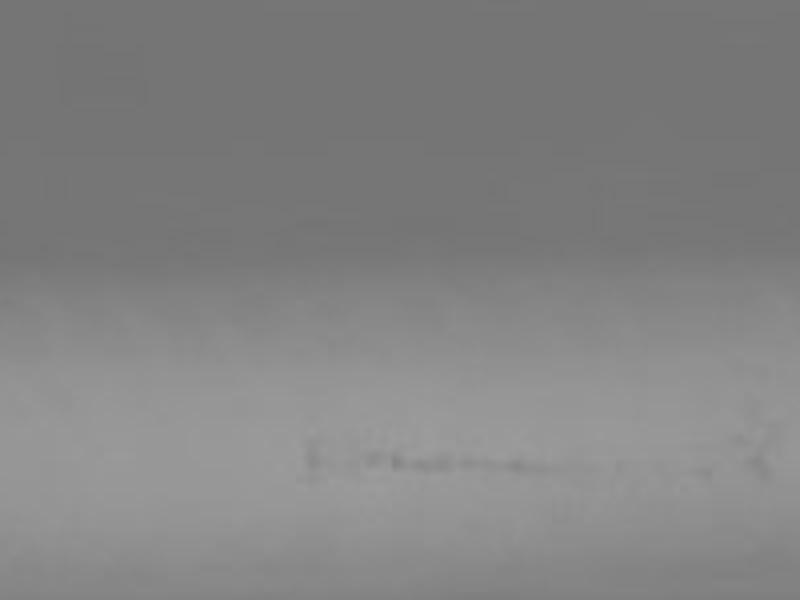defect: (743, 450, 777, 480), (301, 430, 323, 474), (406, 454, 453, 473), (502, 456, 545, 473), (458, 455, 497, 472), (364, 445, 381, 466), (698, 463, 716, 482), (391, 449, 405, 468)
